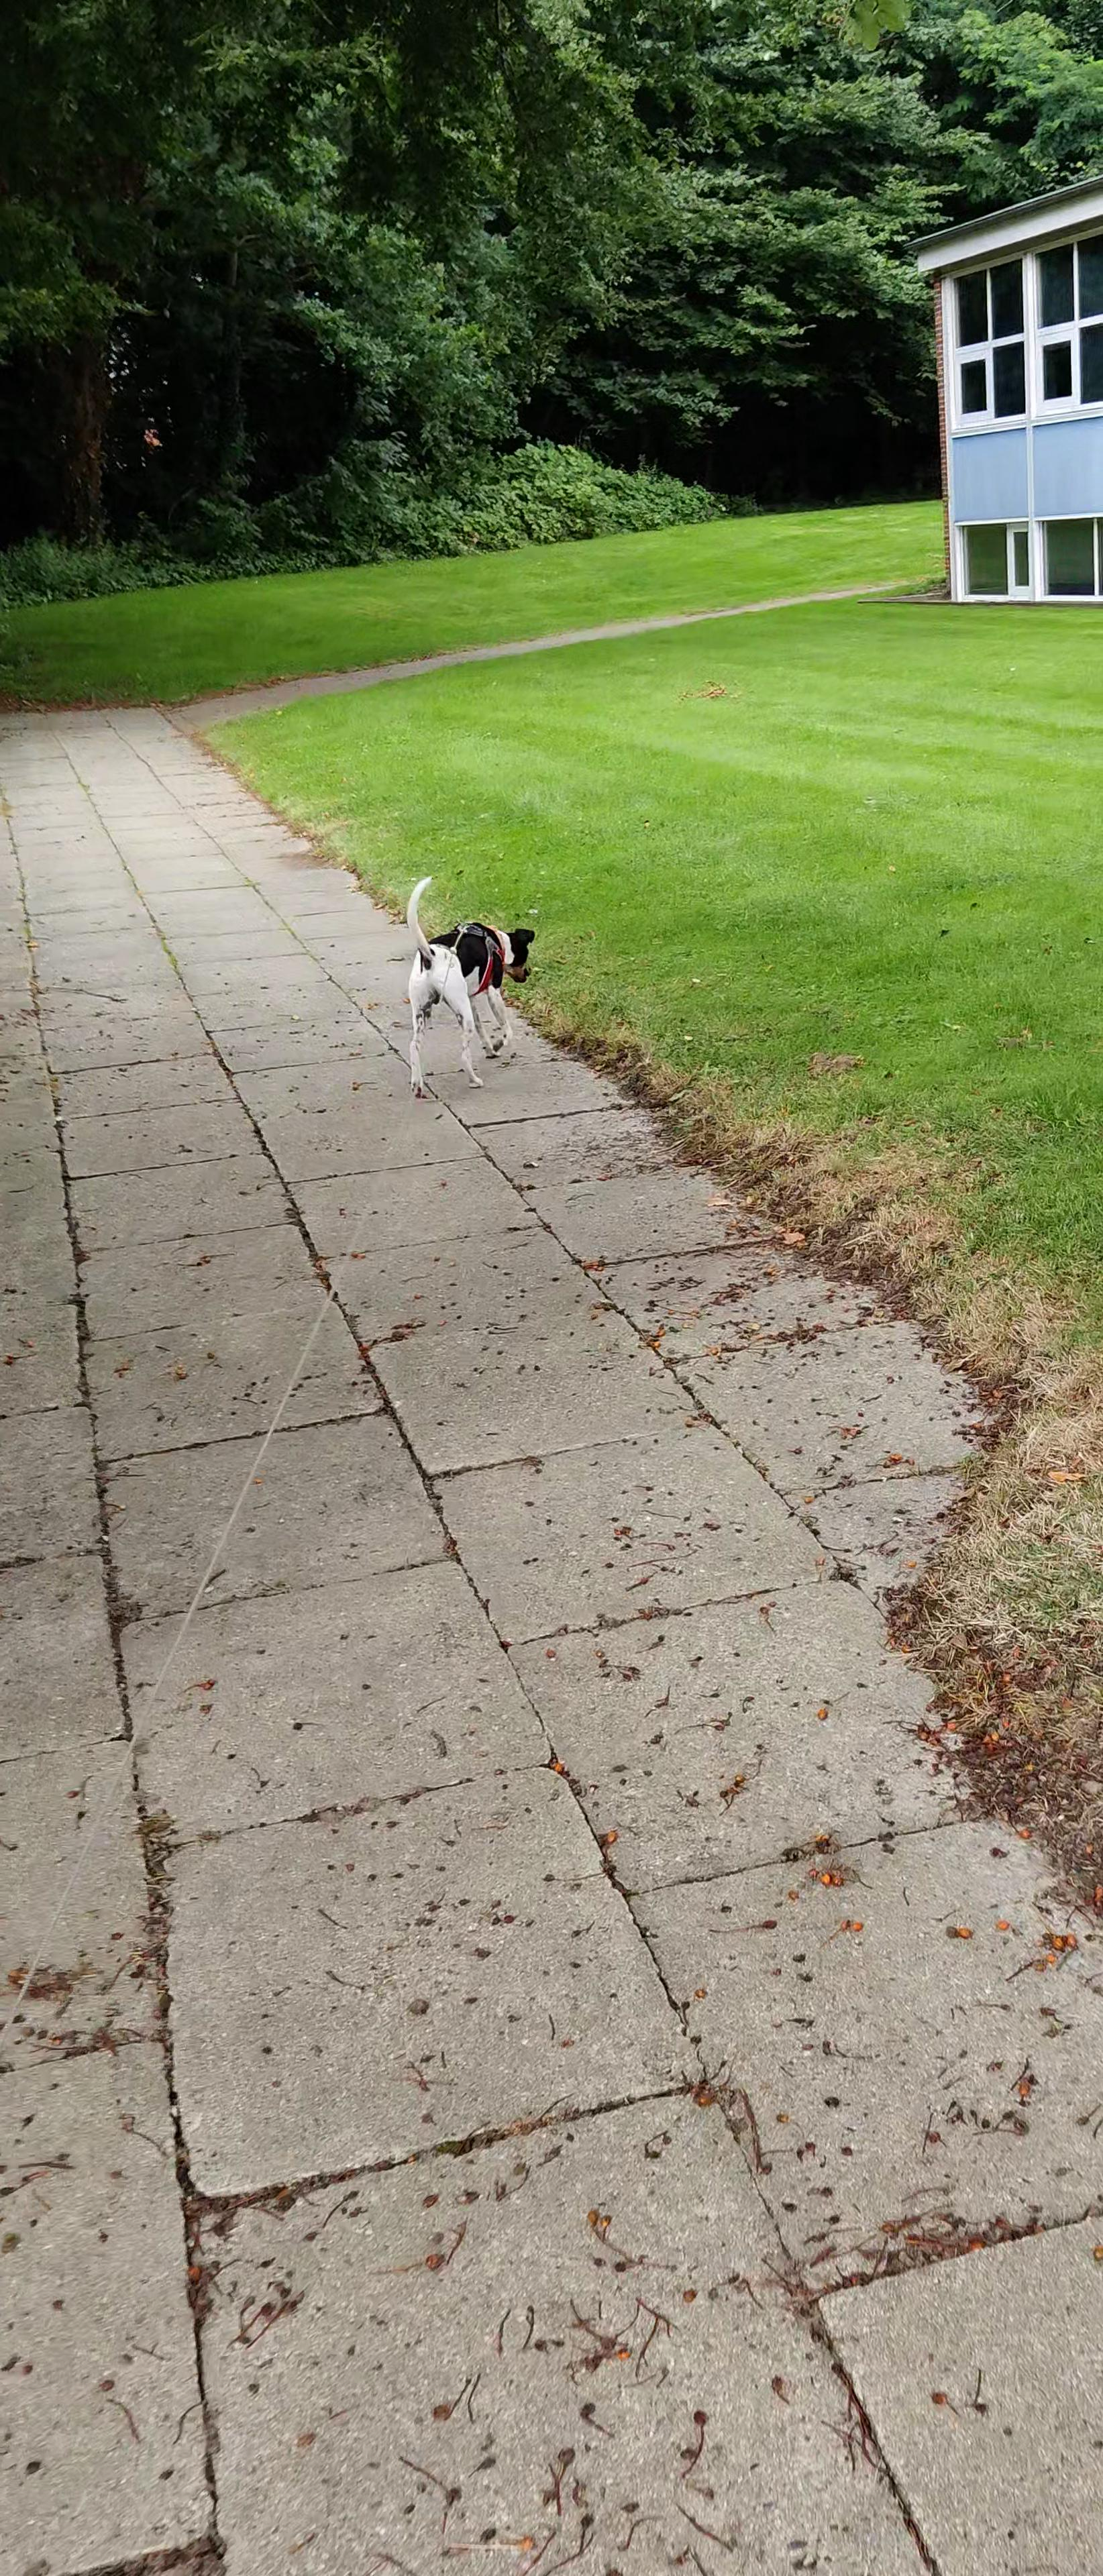Dog: (401, 872, 542, 1101)
